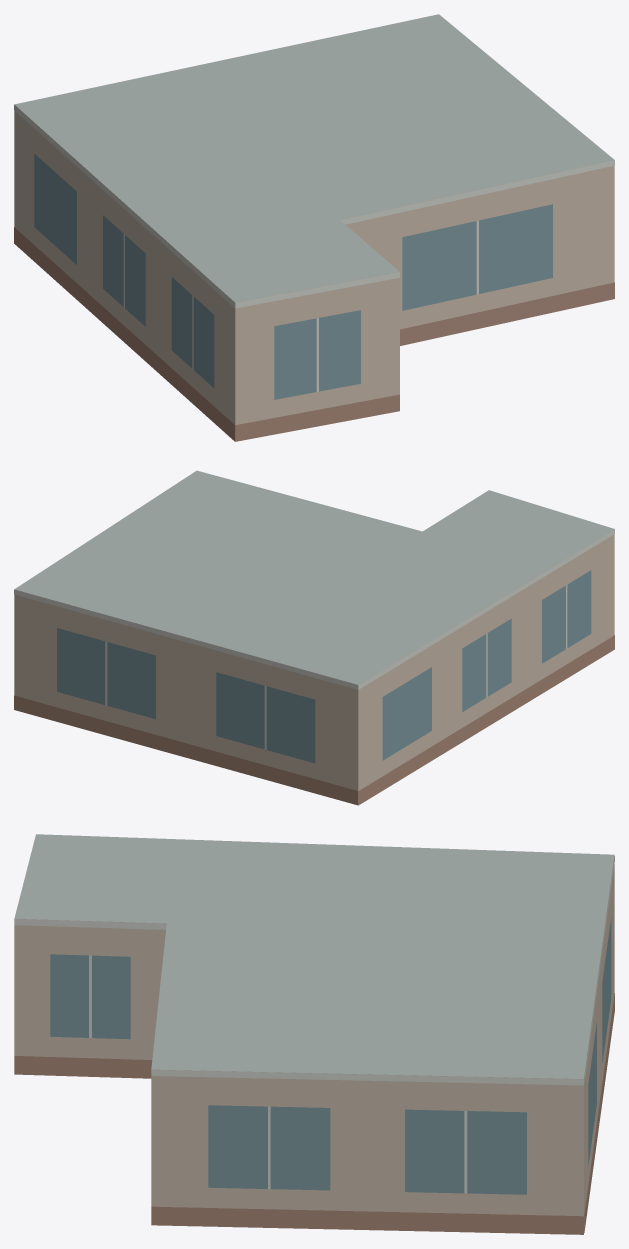
File: survey-upis-32761933.glb
3 views of the same model, one above another, from view 1: azimuth 30°, elevation 25°; view 2: azimuth 150°, elevation 25°; view 3: azimuth 270°, elevation 25° (orthographic). The views are drawn at different scales.
Parts seen in each view (by area): view 1: survey-upis-32761933.tmp; view 2: survey-upis-32761933.tmp; view 3: survey-upis-32761933.tmp.
Part boxes in pixels (left/top/right/bottom): survey-upis-32761933.tmp: left=14, top=14, right=614, bottom=441; survey-upis-32761933.tmp: left=14, top=470, right=614, bottom=805; survey-upis-32761933.tmp: left=14, top=834, right=614, bottom=1234.
Bounding box in the file's own units: 10.31 × 3.05 × 10.68.
